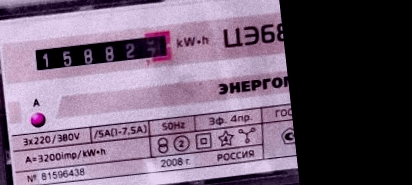1: (39, 51, 50, 68)
2: (123, 40, 134, 58)
5: (60, 48, 72, 65)
7: (145, 45, 155, 57)
8: (102, 44, 114, 62), (81, 47, 93, 64)
screen: (26, 25, 177, 80)
